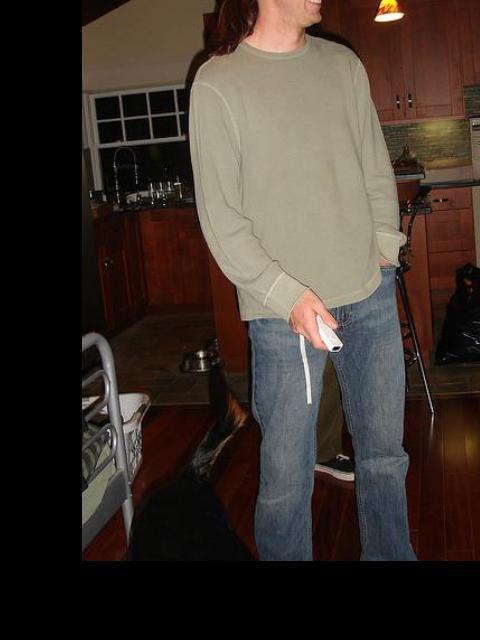Lavaplatos: (84, 133, 188, 215)
